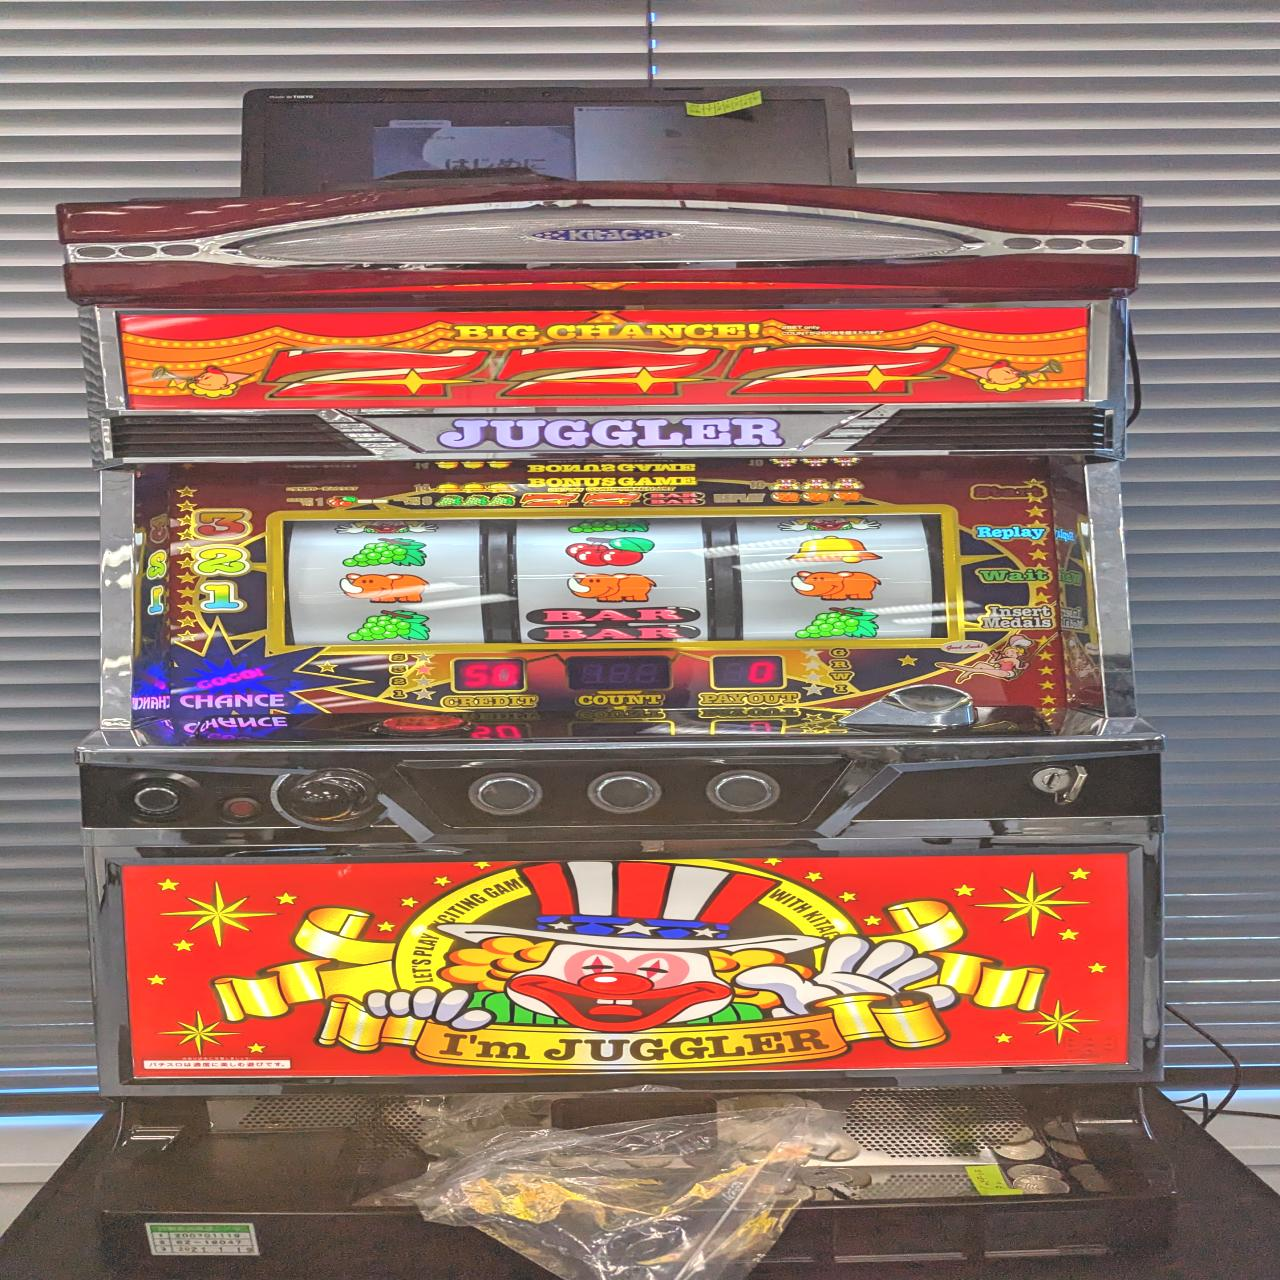8: (564, 572, 655, 602), (790, 571, 886, 599), (338, 573, 429, 602)
Display: (270, 510, 954, 646)
bar: (526, 608, 699, 641)
bell: (788, 536, 884, 565)
cherry: (564, 536, 656, 565)
grape: (794, 606, 880, 639), (348, 610, 431, 642), (342, 538, 430, 568)
